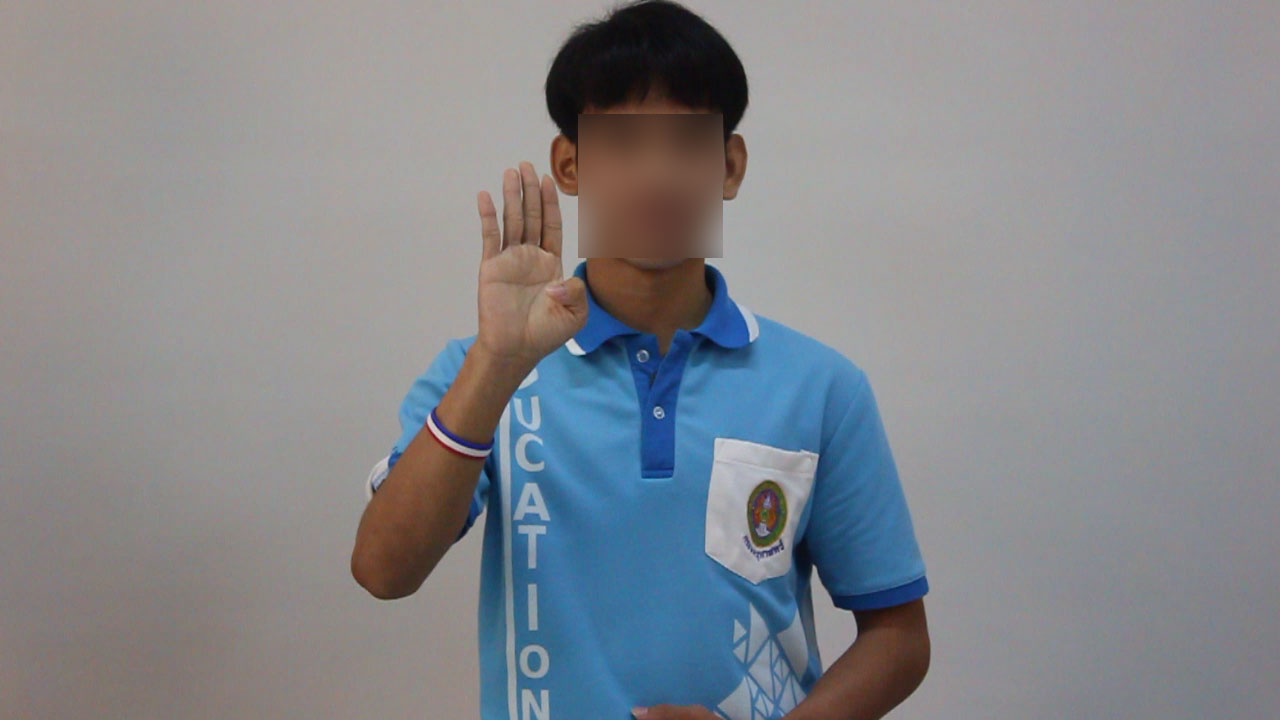bor: (444, 144, 606, 389)
